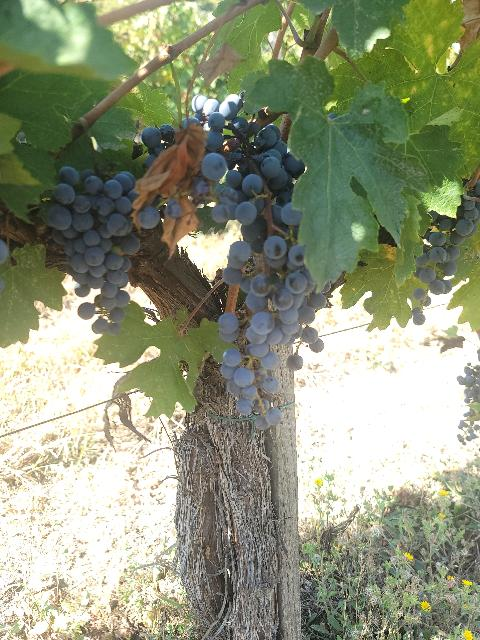grapes: (218, 235, 326, 430), (185, 94, 305, 254), (46, 166, 140, 336)
